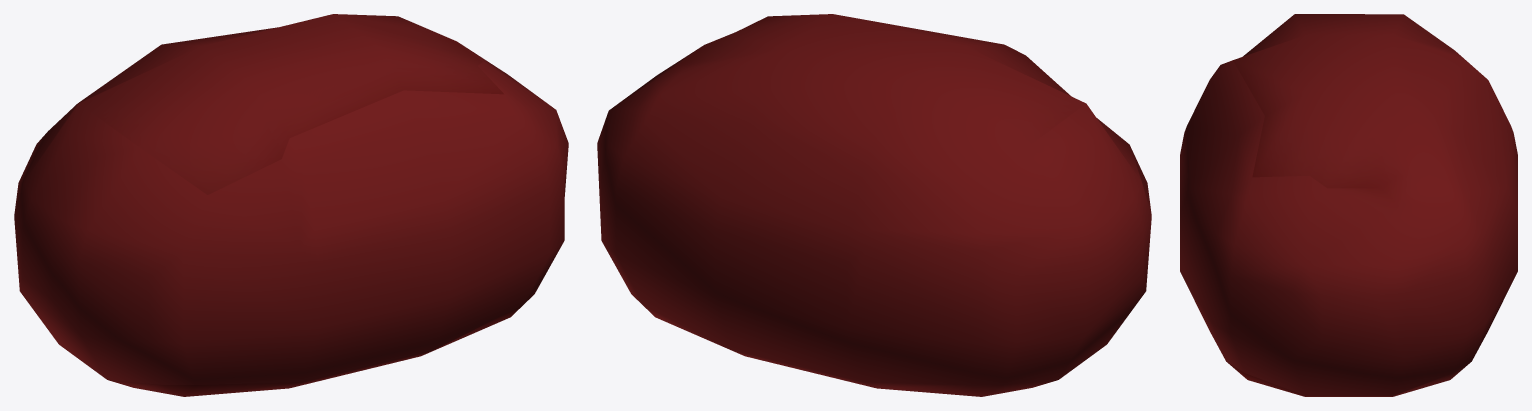
The model's file is MeatOne.fbx.
3 views of the same model, side by side, from view 1: azimuth 30°, elevation 25°; view 2: azimuth 150°, elevation 25°; view 3: azimuth 270°, elevation 25° (orthographic). The views are drawn at different scales.
Parts seen in each view (by area): view 1: MeatOne; view 2: MeatOne; view 3: MeatOne.
Boxes of the visible parts, <box> form: MeatOne: <box>14,14,568,396</box>; MeatOne: <box>597,14,1151,396</box>; MeatOne: <box>1180,14,1517,396</box>.
Bounding box in the file's own units: 11.86 × 6.26 × 7.54.
